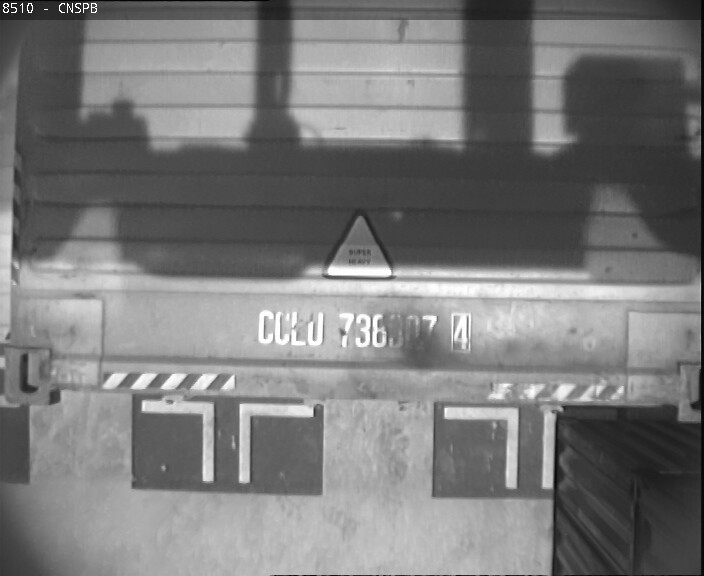groundmarker_1: (140, 399, 314, 485), (445, 405, 616, 490)
